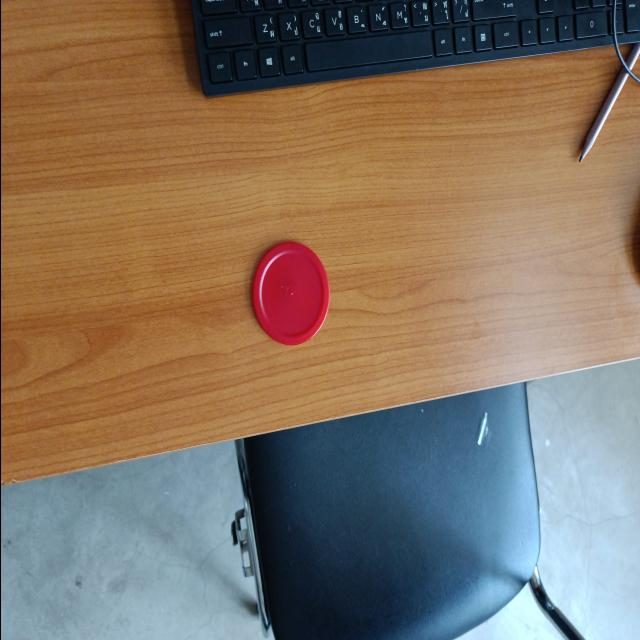chip: (250, 240, 330, 350)
